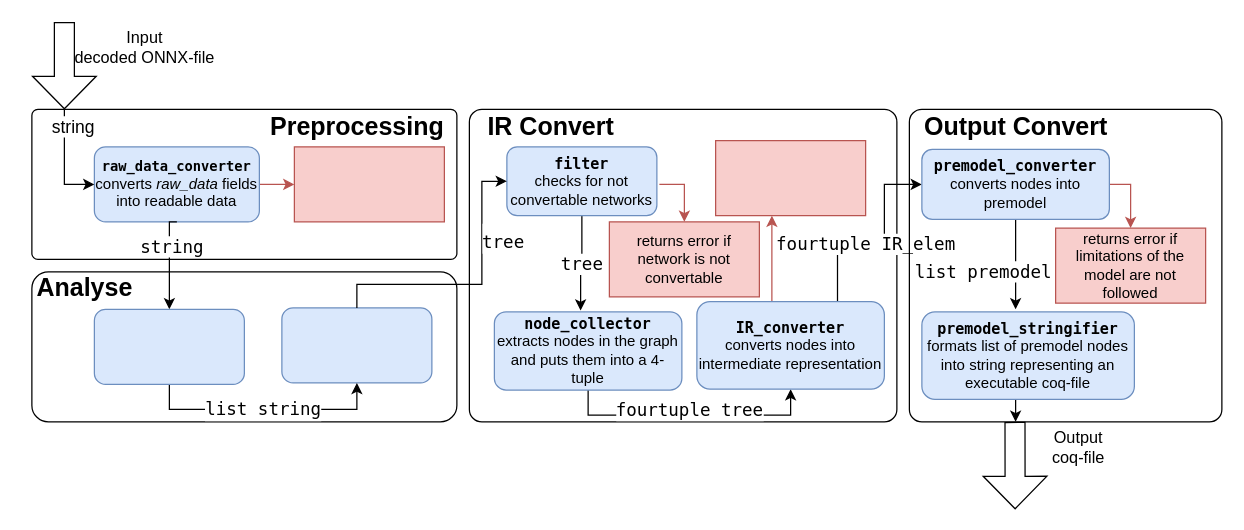
Image size: 1244x530. Some labels were removed from this diagram. Here are the shapes that lost their labels. From the top down, the centre of each, then its label:
At point (368, 184): "returns error if data can not be converted correctly".
At point (790, 177): "returns error if required attributes can not be found".
At point (168, 346): "tokenizer splits input at specific delimiters".
At point (356, 345): "parser creates syntax tree".
